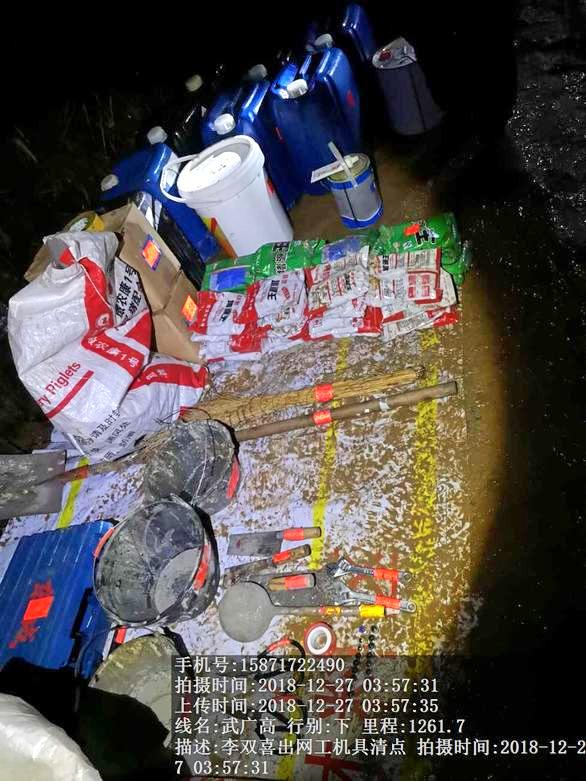SB: (185, 374, 437, 414)
SLT: (269, 57, 360, 136)
SNT: (95, 499, 223, 628), (145, 432, 237, 508)
